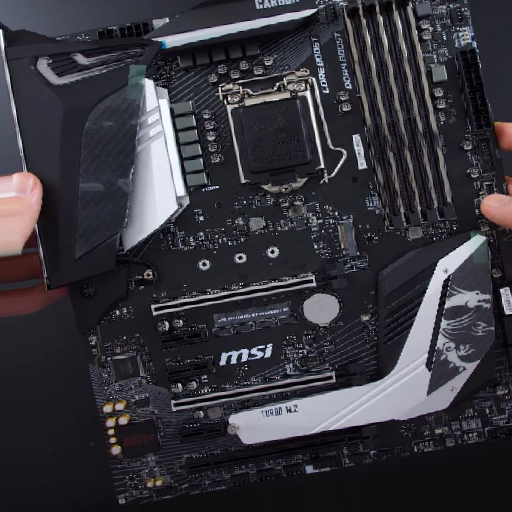CPU: (222, 81, 327, 194)
GPU: (149, 266, 347, 322), (169, 365, 365, 416)
MOTHERBOARD: (11, 6, 510, 502)
RAM: (340, 1, 458, 234)
SSD: (334, 221, 361, 261)
